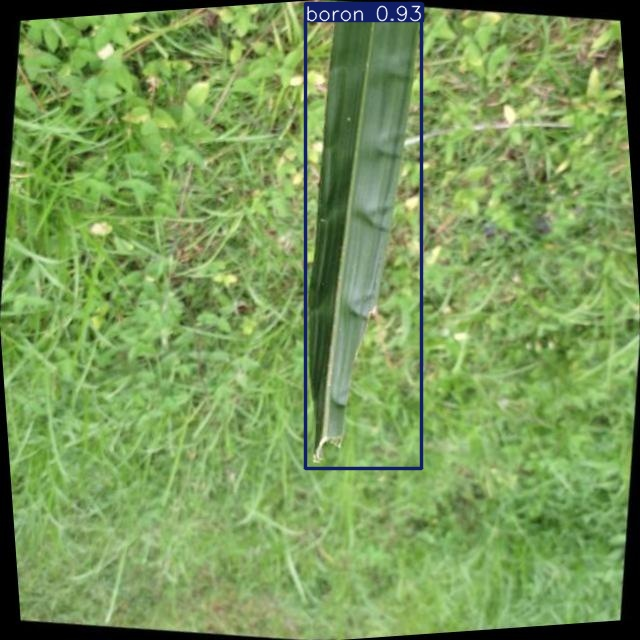nitrogen: (306, 3, 422, 468)
